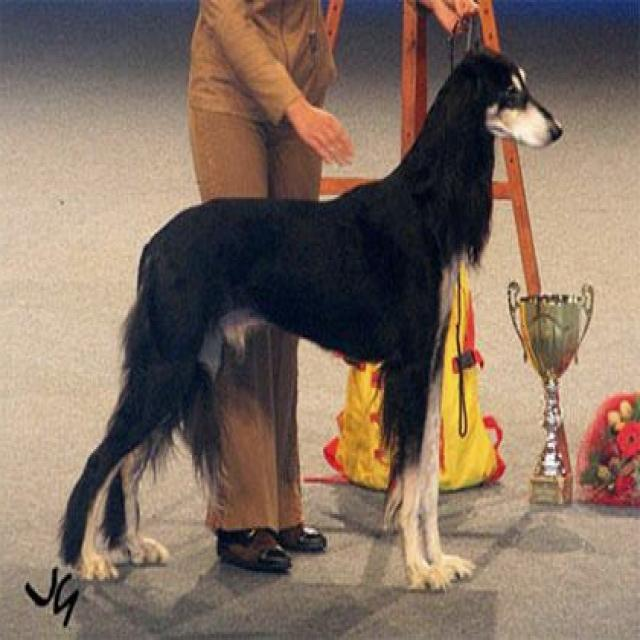saluki: (54, 10, 568, 597)
